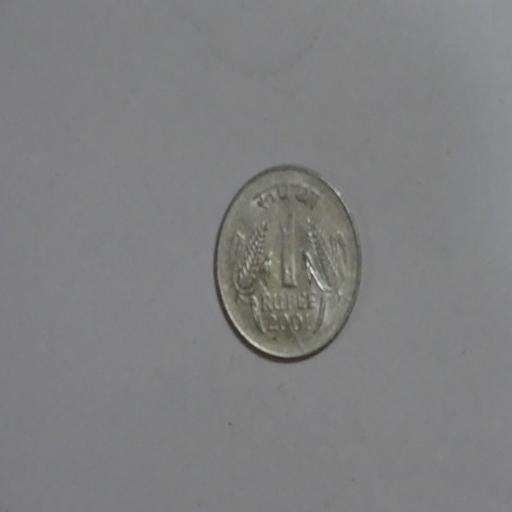rupee1: (211, 164, 362, 362)
